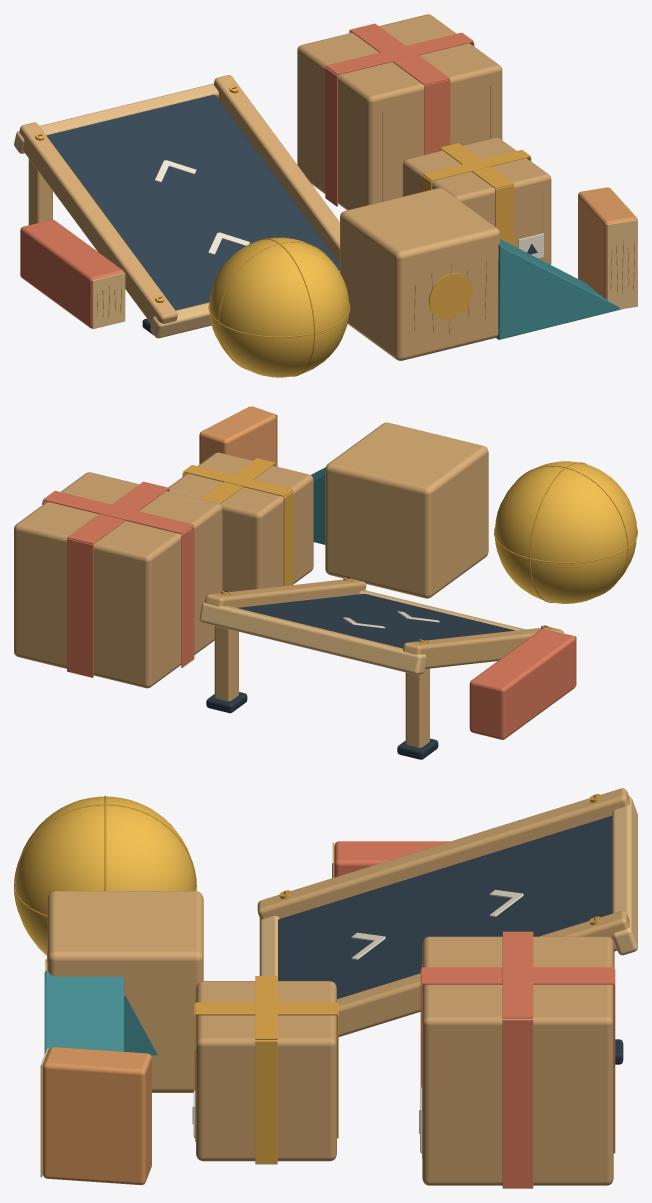
The model's file is play-props.glb.
The picture shows the model from 3 angles, top to bottom: view 1: azimuth 30°, elevation 25°; view 2: azimuth 150°, elevation 25°; view 3: azimuth 270°, elevation 25°; orthographic projection. The views are drawn at different scales.
Parts seen in each view (by area): view 1: Ramp_Driving_Surface, Parcel_Carton (×2), Cube_Wood, Ball_Yellow_Surface, Block_Painted_Body (×2), Wedge_Teal_Body, Ramp_Wood_Rail_Left, Ramp_Wood_Rail_Right, Block_Wood_End (×2), Parcel_Tape_Top_Cross (×2), Parcel_Tape_Top_Length (×2), Ramp_End_Bar_-0.185 (+6 smaller); view 2: Parcel_Carton (×2), Cube_Wood, Ball_Yellow_Surface, Block_Painted_Body (×2), Ramp_Driving_Surface, Ramp_End_Bar_-0.185, Parcel_Tape_Front_Back_-0.095, Ramp_Wood_Rail_Left, Parcel_Tape_Top_Cross (×2), Parcel_Tape_Top_Length (×2), Ramp_Wood_Rail_Right, Parcel_Tape_Sides_-0.1 (+7 smaller); view 3: Parcel_Carton (×2), Ramp_Driving_Surface, Cube_Wood, Block_Painted_Body (×2), Ball_Yellow_Surface, Ramp_Wood_Rail_Left, Wedge_Teal_Body, Parcel_Tape_Sides_0.1, Parcel_Tape_Top_Length (×2), Ramp_Wood_Rail_Right, Parcel_Tape_Top_Cross (×2), Ramp_End_Bar_-0.185 (+3 smaller).
Part boxes in pixels (<box>): Ramp_Driving_Surface: <box>47,94,339,310</box>; Parcel_Carton (×2): <box>297,14,551,264</box>; Cube_Wood: <box>340,188,500,360</box>; Ball_Yellow_Surface: <box>209,237,349,377</box>; Block_Painted_Body (×2): <box>20,187,637,328</box>; Wedge_Teal_Body: <box>496,239,622,339</box>; Ramp_Wood_Rail_Left: <box>19,122,177,323</box>; Ramp_Wood_Rail_Right: <box>213,75,339,262</box>; Block_Wood_End (×2): <box>92,219,637,328</box>; Parcel_Tape_Top_Cross (×2): <box>326,32,530,180</box>; Parcel_Tape_Top_Length (×2): <box>349,23,513,188</box>; Ramp_End_Bar_-0.185: <box>14,83,218,153</box>; Parcel_Carton (×2): <box>14,452,313,688</box>; Cube_Wood: <box>325,422,488,598</box>; Ball_Yellow_Surface: <box>494,461,636,603</box>; Block_Painted_Body (×2): <box>199,406,575,739</box>; Ramp_Driving_Surface: <box>237,594,515,648</box>; Ramp_End_Bar_-0.185: <box>199,602,426,674</box>; Parcel_Tape_Front_Back_-0.095: <box>67,538,93,677</box>; Ramp_Wood_Rail_Left: <box>403,627,563,668</box>; Parcel_Tape_Top_Cross (×2): <box>43,465,292,534</box>; Parcel_Tape_Top_Length (×2): <box>67,458,275,544</box>; Ramp_Wood_Rail_Right: <box>205,579,366,607</box>; Parcel_Tape_Sides_-0.1: <box>181,526,194,667</box>; Parcel_Carton (×2): <box>196,936,613,1185</box>; Ramp_Driving_Surface: <box>278,816,612,998</box>; Cube_Wood: <box>47,891,203,1092</box>; Block_Painted_Body (×2): <box>43,841,450,1185</box>; Ball_Yellow_Surface: <box>15,796,195,955</box>; Ramp_Wood_Rail_Left: <box>257,788,629,919</box>; Wedge_Teal_Body: <box>44,970,123,1053</box>; Parcel_Tape_Sides_0.1: <box>502,1019,533,1188</box>; Parcel_Tape_Top_Length (×2): <box>195,967,614,1015</box>; Ramp_Wood_Rail_Right: <box>337,910,629,1036</box>; Parcel_Tape_Top_Cross (×2): <box>255,931,533,1039</box>; Ramp_End_Bar_-0.185: <box>612,796,637,955</box>.
Size of the model in its own units: 0.6649 by 0.1885 by 0.6201.
